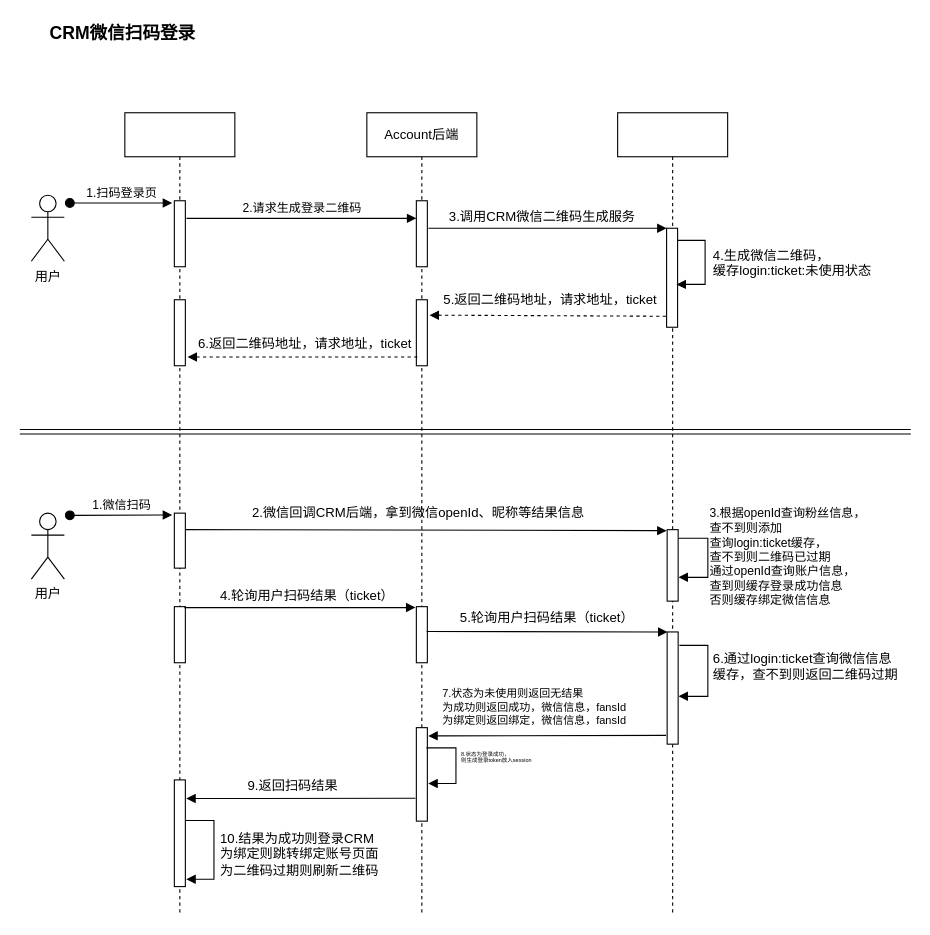
The diagram is 930 pixels wide and 935 high, and some of its shapes have lost their labels. The shapes that lost their labels are listed below. From the top down, each one's centre as x and y in pixels, then its label:
At (179,514): "CRM前端".
At (672,514): "CRM后端".
